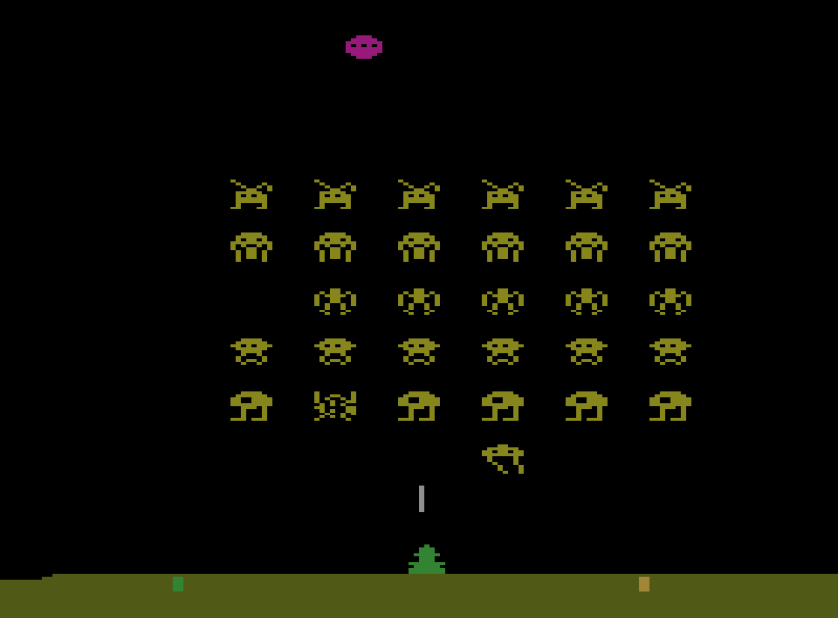bonus: (345, 33, 384, 61)
bullet: (417, 482, 427, 514)
invader1: (397, 176, 443, 211), (312, 177, 359, 211), (229, 178, 275, 211), (564, 177, 610, 210), (480, 177, 525, 210), (648, 177, 693, 210)
invader2: (648, 229, 694, 264), (397, 229, 442, 264), (229, 230, 274, 264), (480, 230, 525, 264), (565, 229, 610, 263), (312, 230, 359, 262)
invader3: (312, 287, 359, 318), (564, 285, 610, 315), (647, 287, 694, 316), (397, 287, 442, 317), (481, 286, 525, 315)
invader4: (565, 335, 610, 368), (312, 335, 358, 367), (229, 335, 274, 367), (397, 336, 442, 368), (480, 336, 526, 367), (649, 337, 692, 367)
invader5: (313, 388, 359, 424), (647, 389, 694, 423), (397, 389, 442, 424), (480, 389, 526, 423), (564, 389, 610, 422), (229, 389, 274, 422)
invader6: (480, 440, 526, 475)
player: (407, 542, 448, 575)
